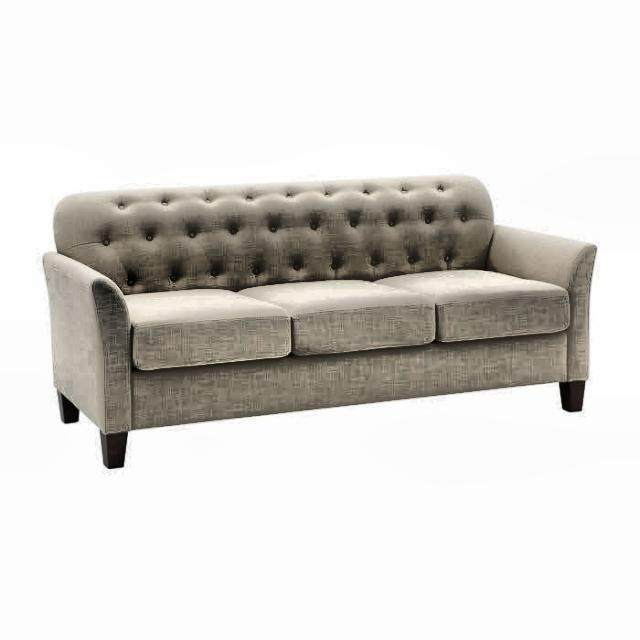sofa: (41, 173, 597, 469)
